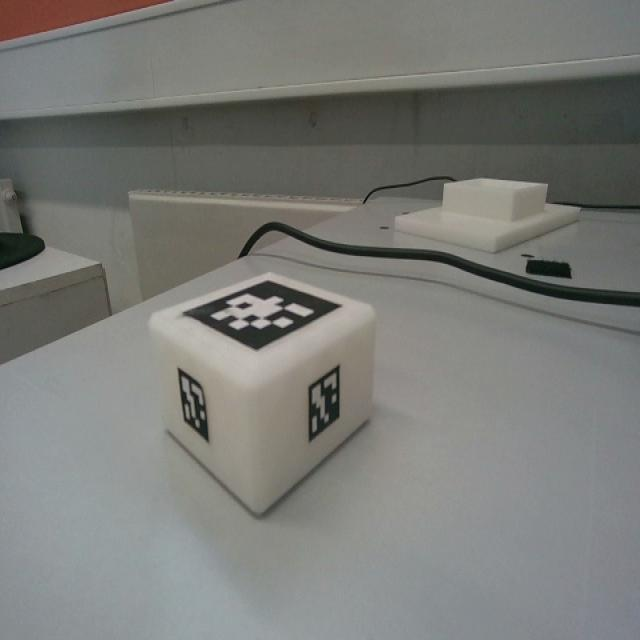Cube: (149, 271, 376, 518)
